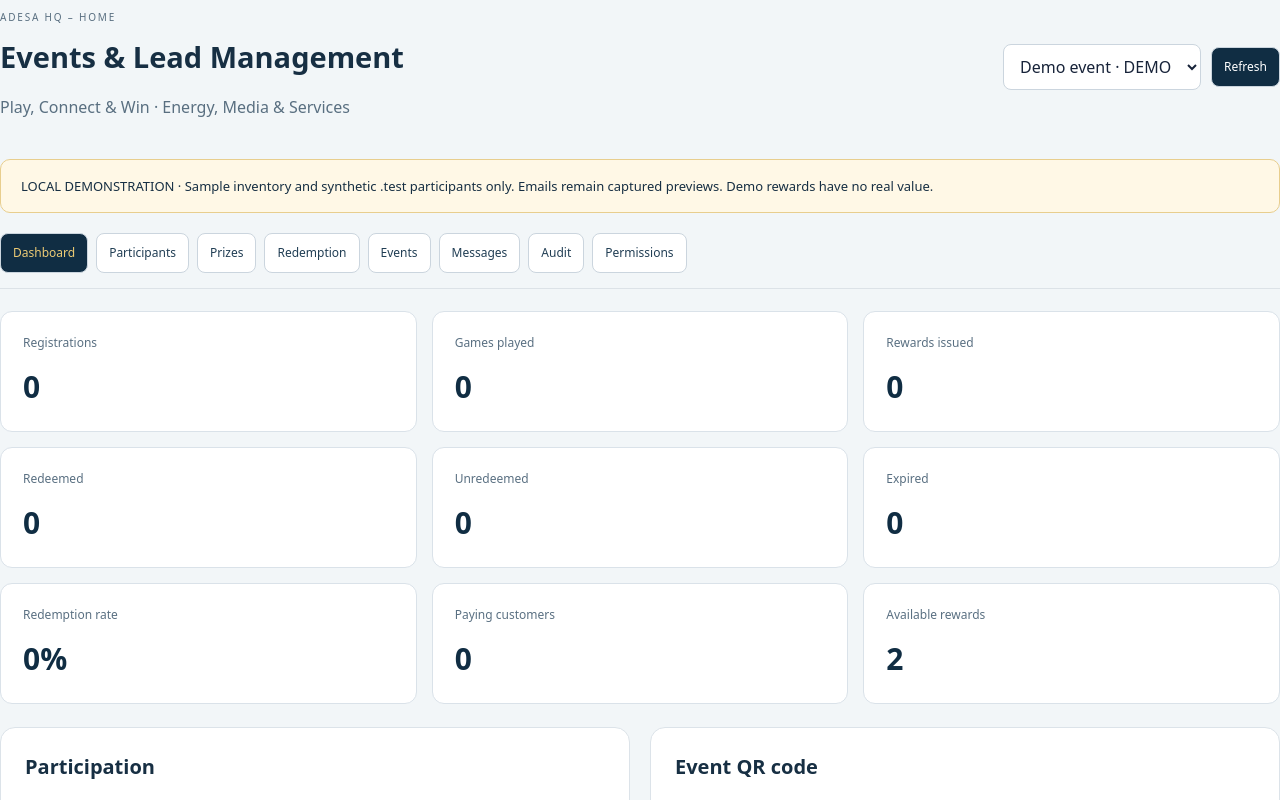
Test: opens the selected event automatically and can activate it directly
Expected: the text "Registrations" is shown, [23, 334, 97, 351]
Click the button "Events": x=399, y=253 [368, 233, 430, 273]
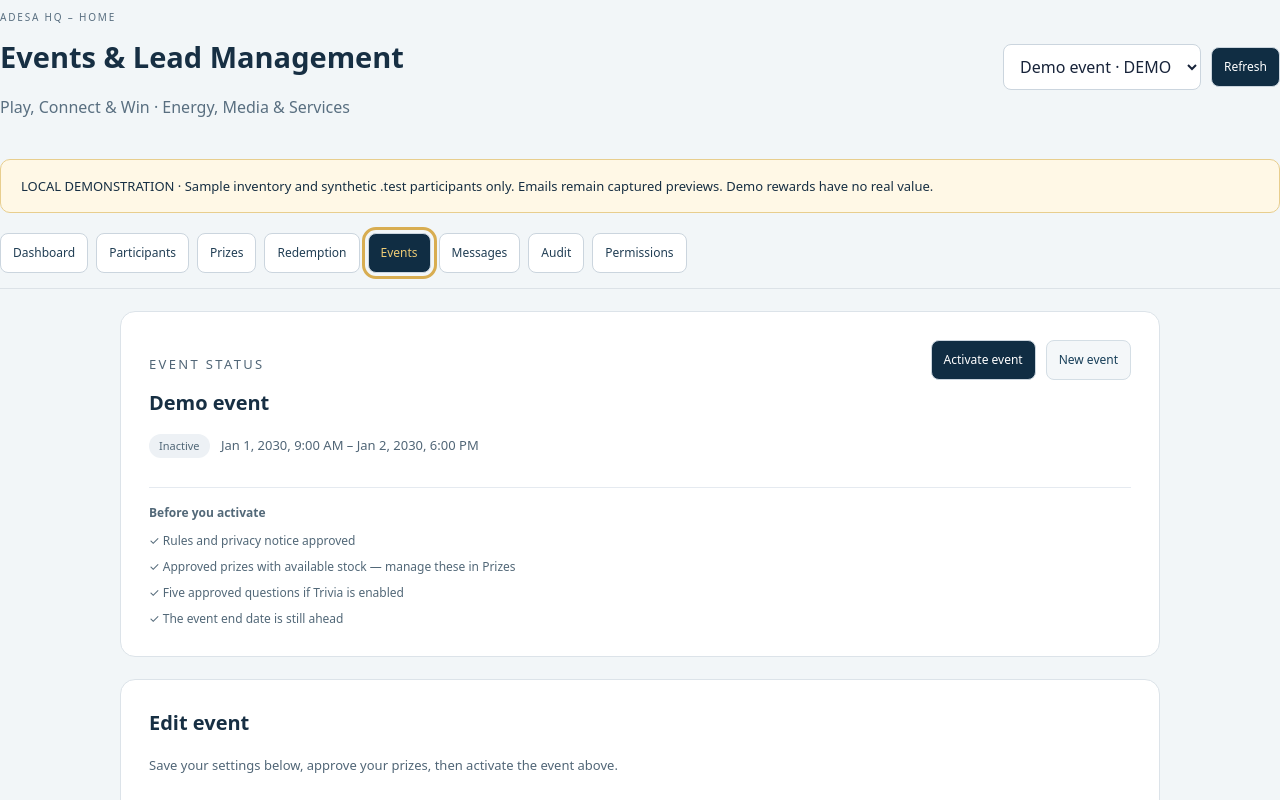
Click the button "Activate event": x=983, y=360 [931, 340, 1036, 380]
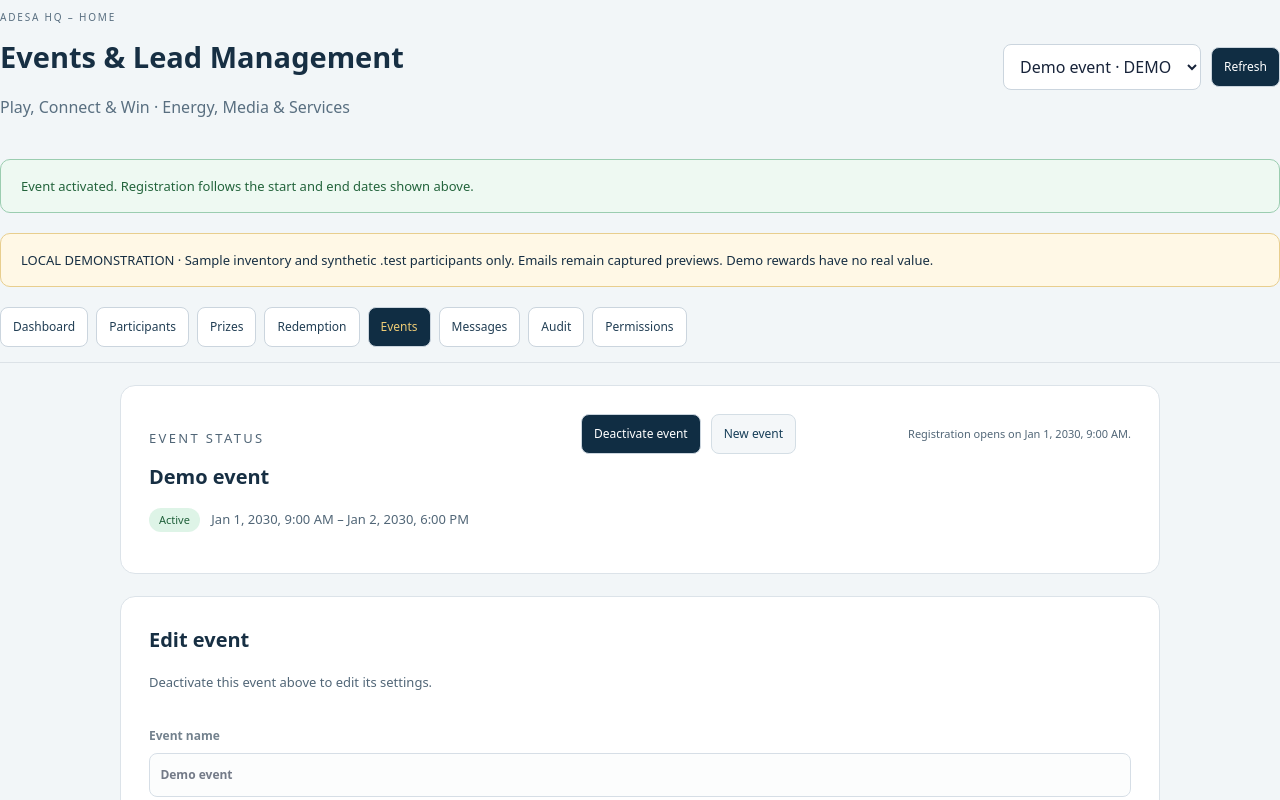
Result: the text "Event activated. Registration follows the start and end dates shown above." is shown at [0, 158, 1279, 213]
Result: the button "Deactivate event" is shown at [581, 414, 701, 454]
